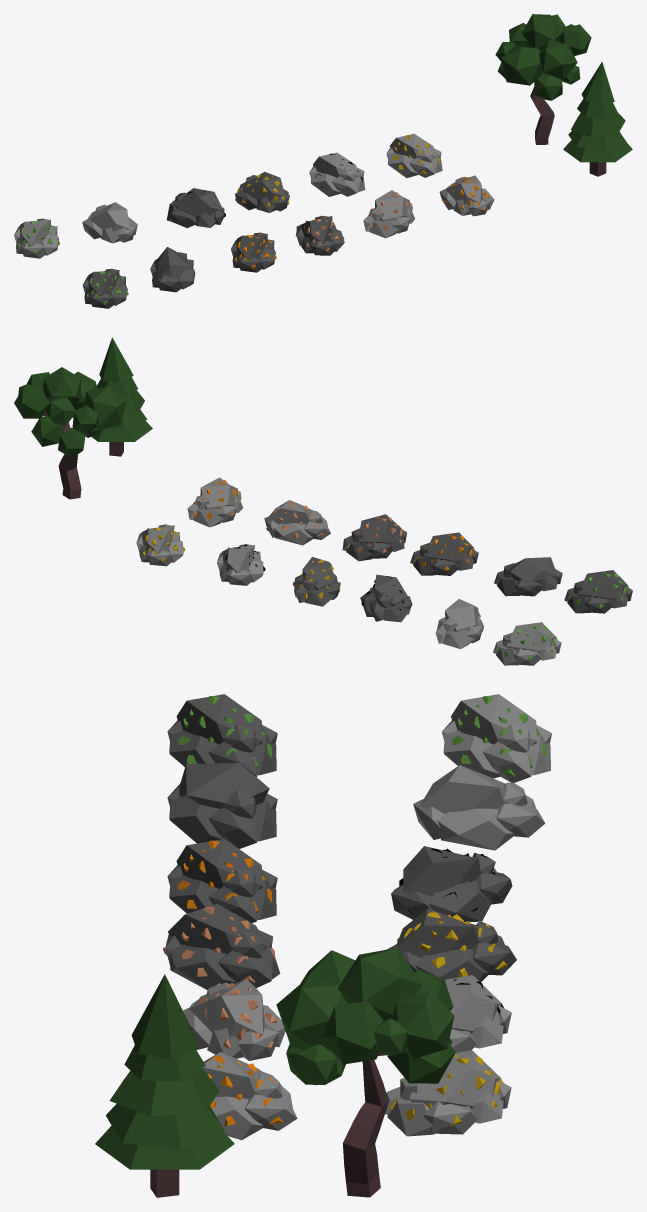
The model's file is ORE.fbx.
3 renders of one model, top to bottom at view 1: azimuth 30°, elevation 25°; view 2: azimuth 150°, elevation 25°; view 3: azimuth 270°, elevation 25°, orthographic. The views are drawn at different scales.
Visible parts, largest first — view 1: Cube, Cube.217, Icosphere.018, Icosphere.027, Icosphere.058, Icosphere.028, Icosphere.037, Icosphere.080, Icosphere.009, Icosphere.004, Cube.136, Icosphere.064 (+2 smaller); view 2: Cube, Cube.217, Icosphere.099, Icosphere.107, Icosphere.064, Cube.136, Icosphere.028, Icosphere.004, Icosphere.009, Icosphere.058, Icosphere.080, Icosphere.037 (+2 smaller); view 3: Cube, Cube.217, Icosphere.080, Icosphere.004, Icosphere.107, Cube.136, Icosphere.018, Icosphere.064, Icosphere.058, Icosphere.099, Icosphere.037, Icosphere.028 (+2 smaller).
Boxes of the visible parts, box(x1,y1,x2,y2) form: Cube: box(495, 14, 591, 144); Cube.217: box(563, 61, 632, 176); Icosphere.018: box(386, 134, 442, 177); Icosphere.027: box(309, 152, 365, 196); Icosphere.058: box(166, 188, 225, 228); Icosphere.028: box(363, 190, 414, 238); Icosphere.037: box(235, 172, 289, 212); Icosphere.080: box(82, 202, 137, 243); Icosphere.009: box(439, 175, 494, 216); Icosphere.004: box(150, 247, 195, 292); Cube.136: box(295, 215, 344, 255); Icosphere.064: box(231, 232, 276, 272); Cube: box(14, 367, 126, 499); Cube.217: box(91, 337, 152, 456); Icosphere.099: box(564, 570, 632, 613); Icosphere.107: box(493, 622, 561, 665); Icosphere.064: box(410, 532, 478, 575); Cube.136: box(342, 514, 406, 561); Icosphere.028: box(264, 500, 330, 545); Icosphere.004: box(494, 557, 562, 596); Icosphere.009: box(187, 477, 242, 527); Icosphere.058: box(360, 574, 412, 622); Icosphere.080: box(435, 599, 483, 649); Icosphere.037: box(292, 557, 340, 606); Cube: box(276, 947, 455, 1197); Cube.217: box(95, 974, 234, 1197); Icosphere.080: box(413, 765, 545, 850); Icosphere.004: box(167, 762, 277, 848); Icosphere.107: box(442, 694, 551, 782); Cube.136: box(163, 904, 280, 990); Icosphere.018: box(385, 1050, 511, 1136); Icosphere.064: box(167, 838, 277, 922); Icosphere.058: box(391, 846, 512, 921); Icosphere.099: box(167, 694, 277, 776); Icosphere.037: box(387, 908, 516, 982); Icosphere.028: box(183, 979, 285, 1060).
Size of the model in its own units: 3412 by 843 by 1251.
